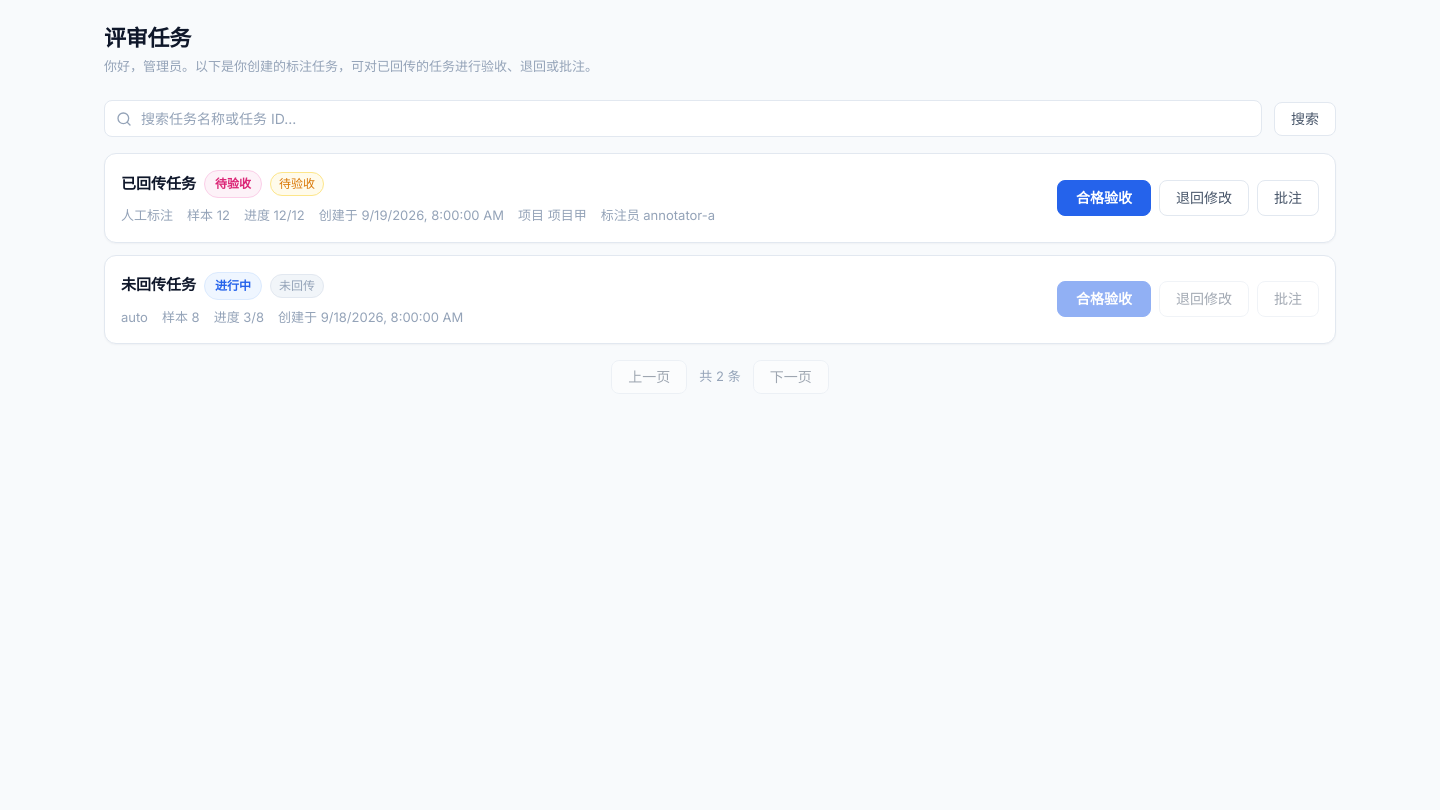
Test case: AdminQueuePage › accepts a returned batch after confirmation and refreshes the list
This screenshot has width=1440, height=810.
Expected: the text "已回传任务" is shown, [121,173,196,195]
Click the button "合格验收" in the row of "annotator-a".
click(1104, 198)  # box [1057,180,1151,216]
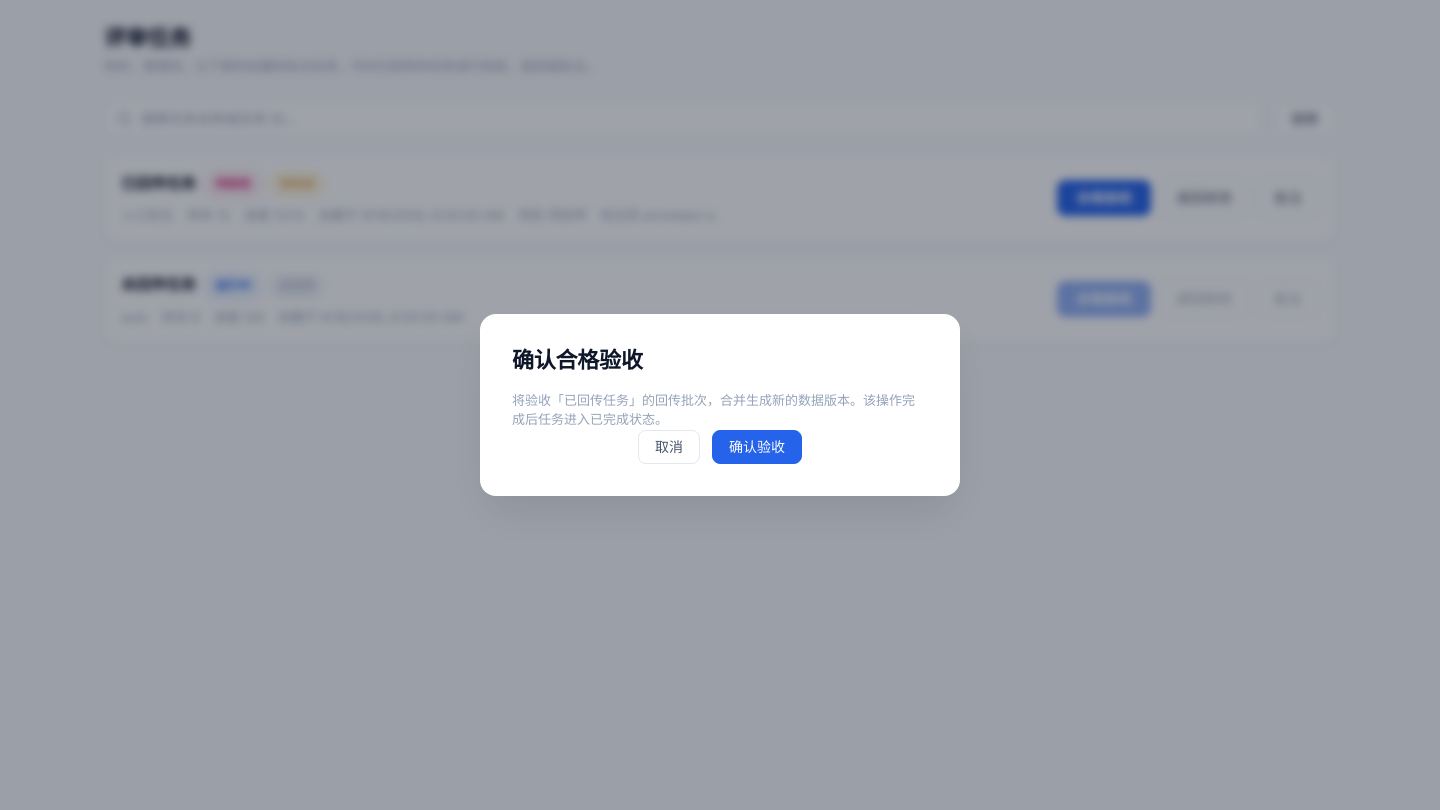
Now the dialog "确认合格验收" is shown, box [480,314,960,496]
Click the button "确认验收".
click(757, 447)  # box [712,430,802,464]
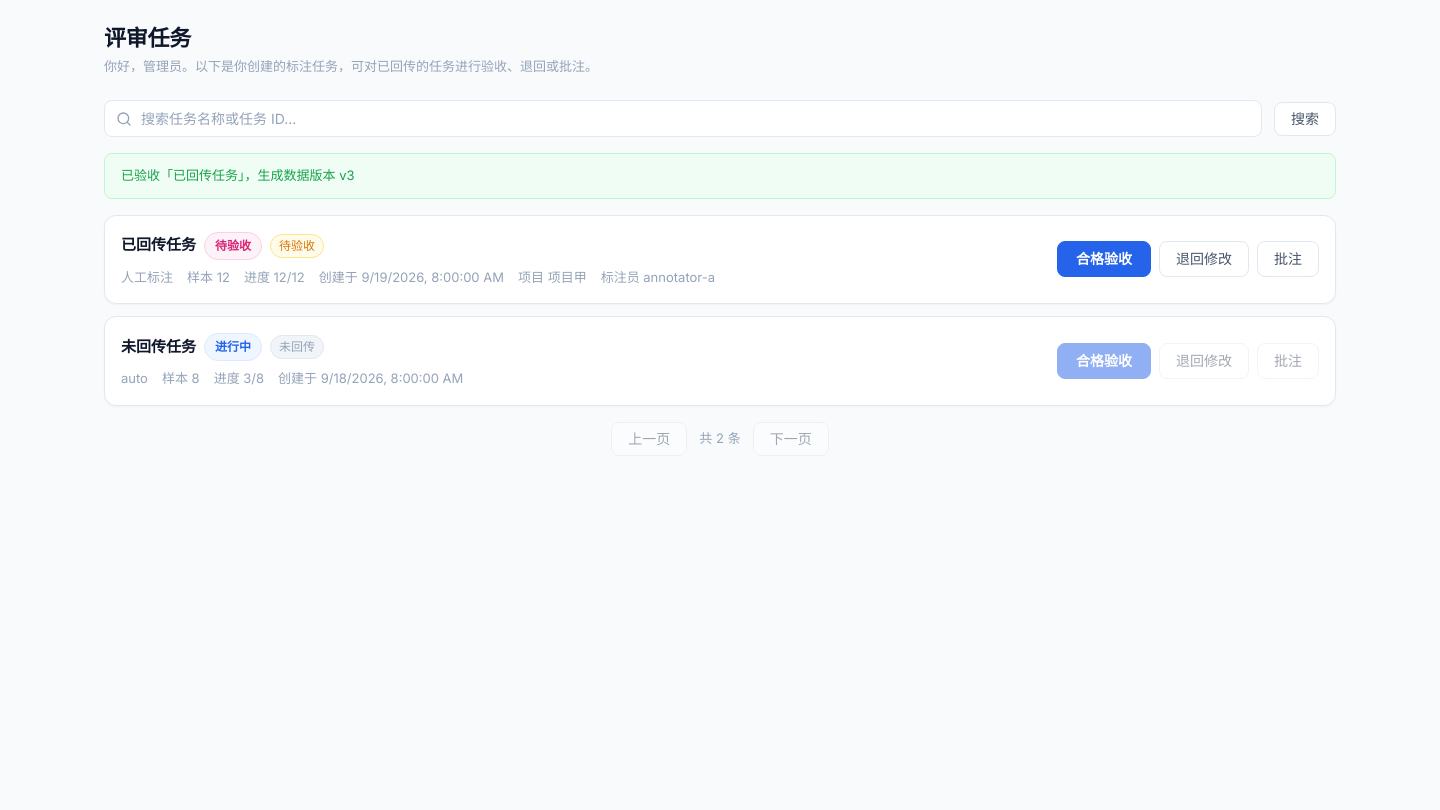
Now the text "已验收「已回传任务」，生成数据版本 v3" is shown, box [104,153,1336,199]
